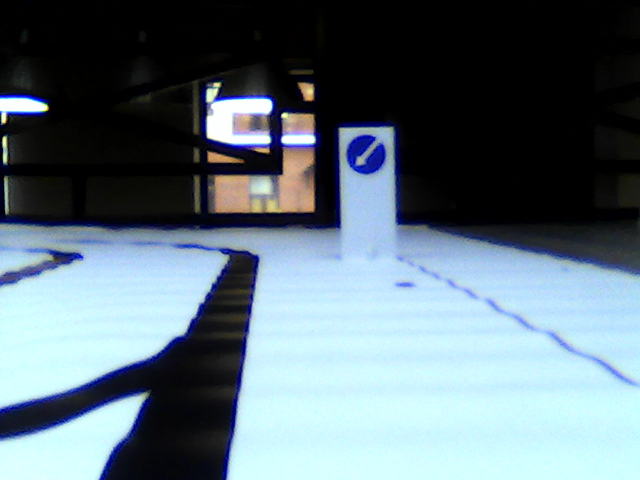prep: (345, 133, 388, 176)
